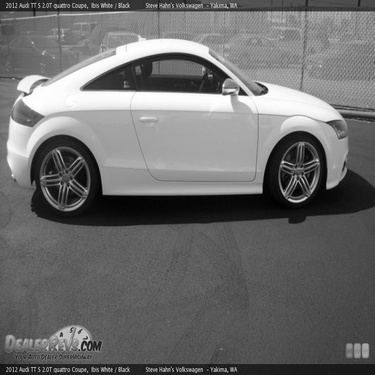car: (8, 35, 358, 221)
